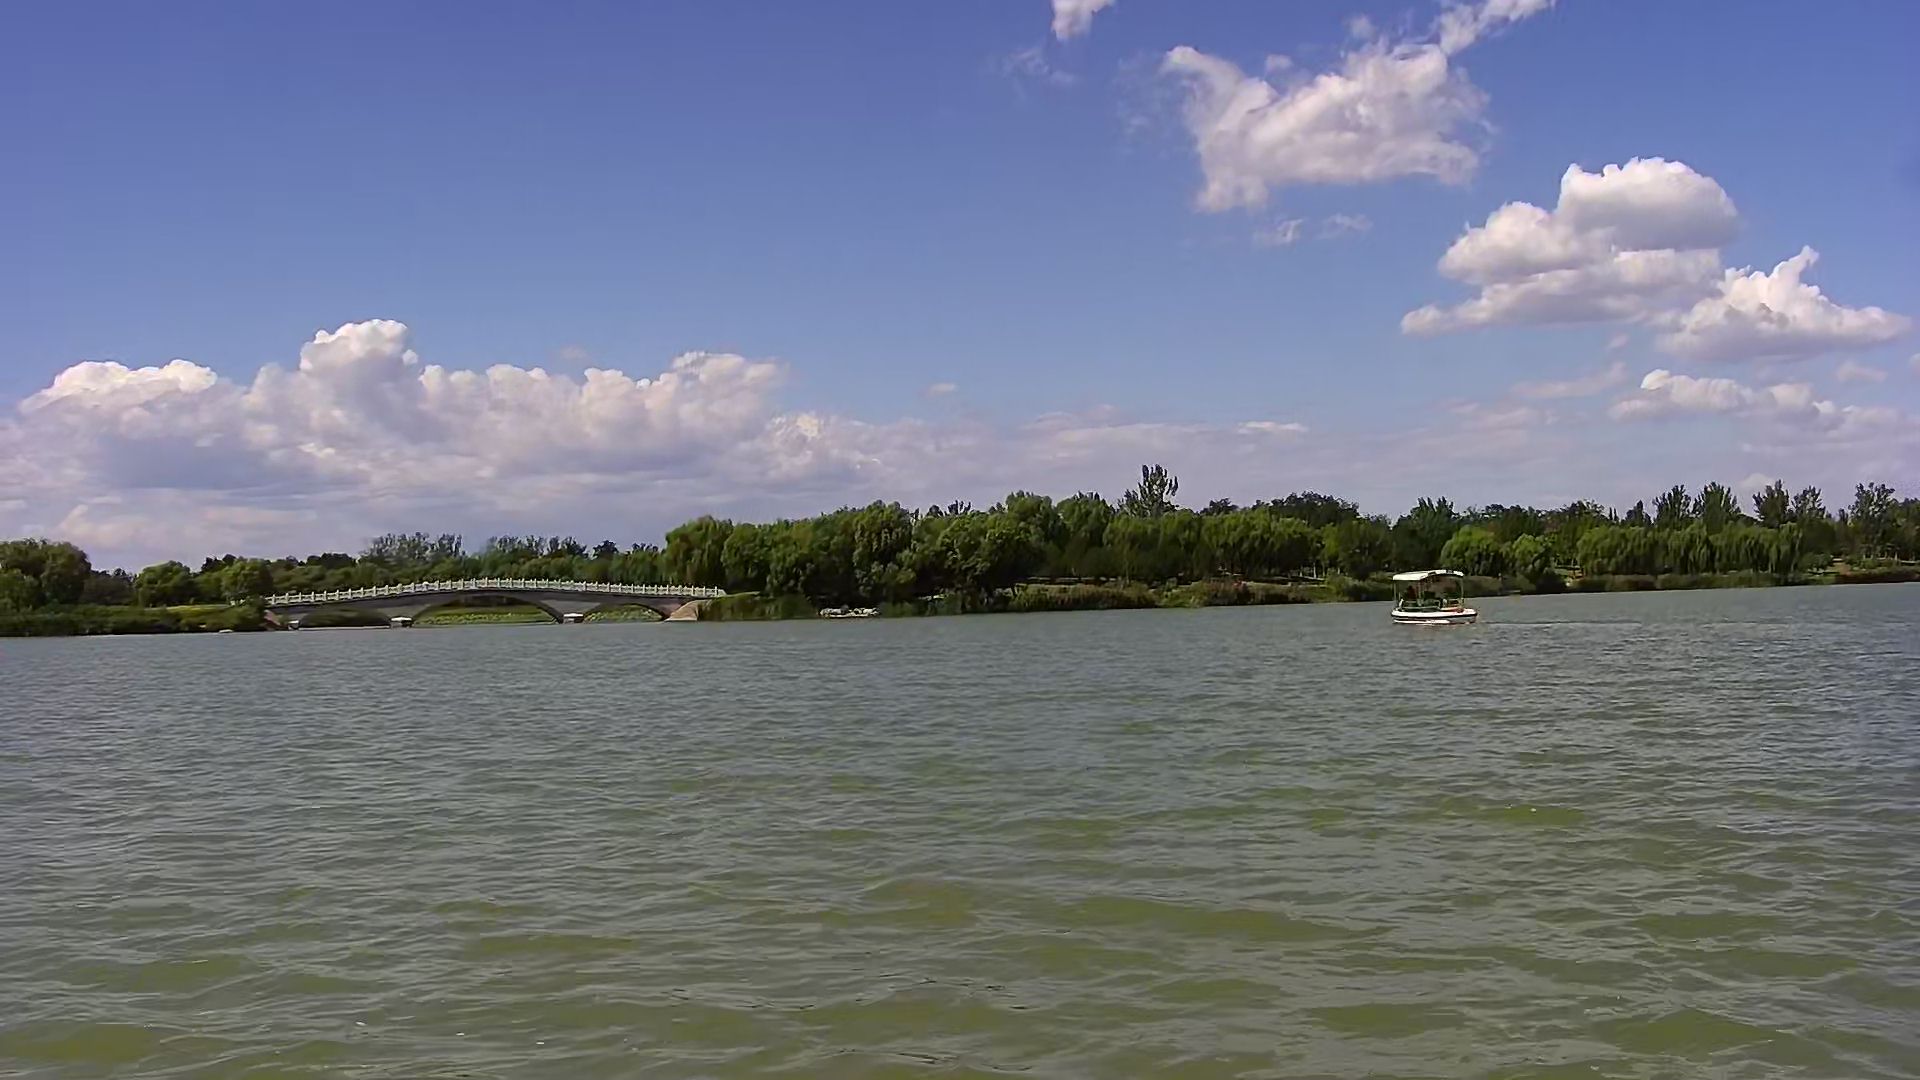boat: (1386, 567, 1478, 622)
bridge: (287, 579, 698, 630)
